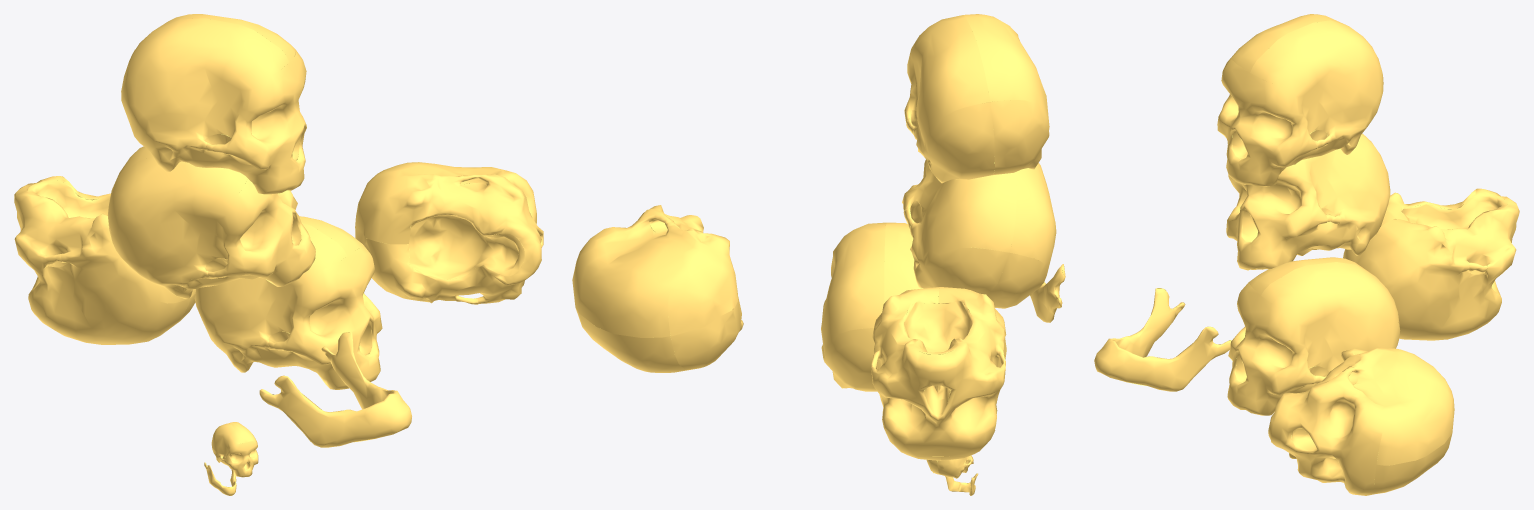
File: Gold_SkullPile.glb
3 renders of one model, left to right at view 1: azimuth 30°, elevation 25°; view 2: azimuth 150°, elevation 25°; view 3: azimuth 270°, elevation 25°, orthographic. The views are drawn at different scales.
Visible parts, largest first — view 1: Gold_SkullPile; view 2: Gold_SkullPile; view 3: Gold_SkullPile.
Part boxes in pixels (left/top/right/bottom): Gold_SkullPile: left=14, top=14, right=543, bottom=495; Gold_SkullPile: left=572, top=14, right=1065, bottom=495; Gold_SkullPile: left=1094, top=14, right=1519, bottom=495.
Size of the model in its own units: 1.23 by 1.2 by 1.08.
